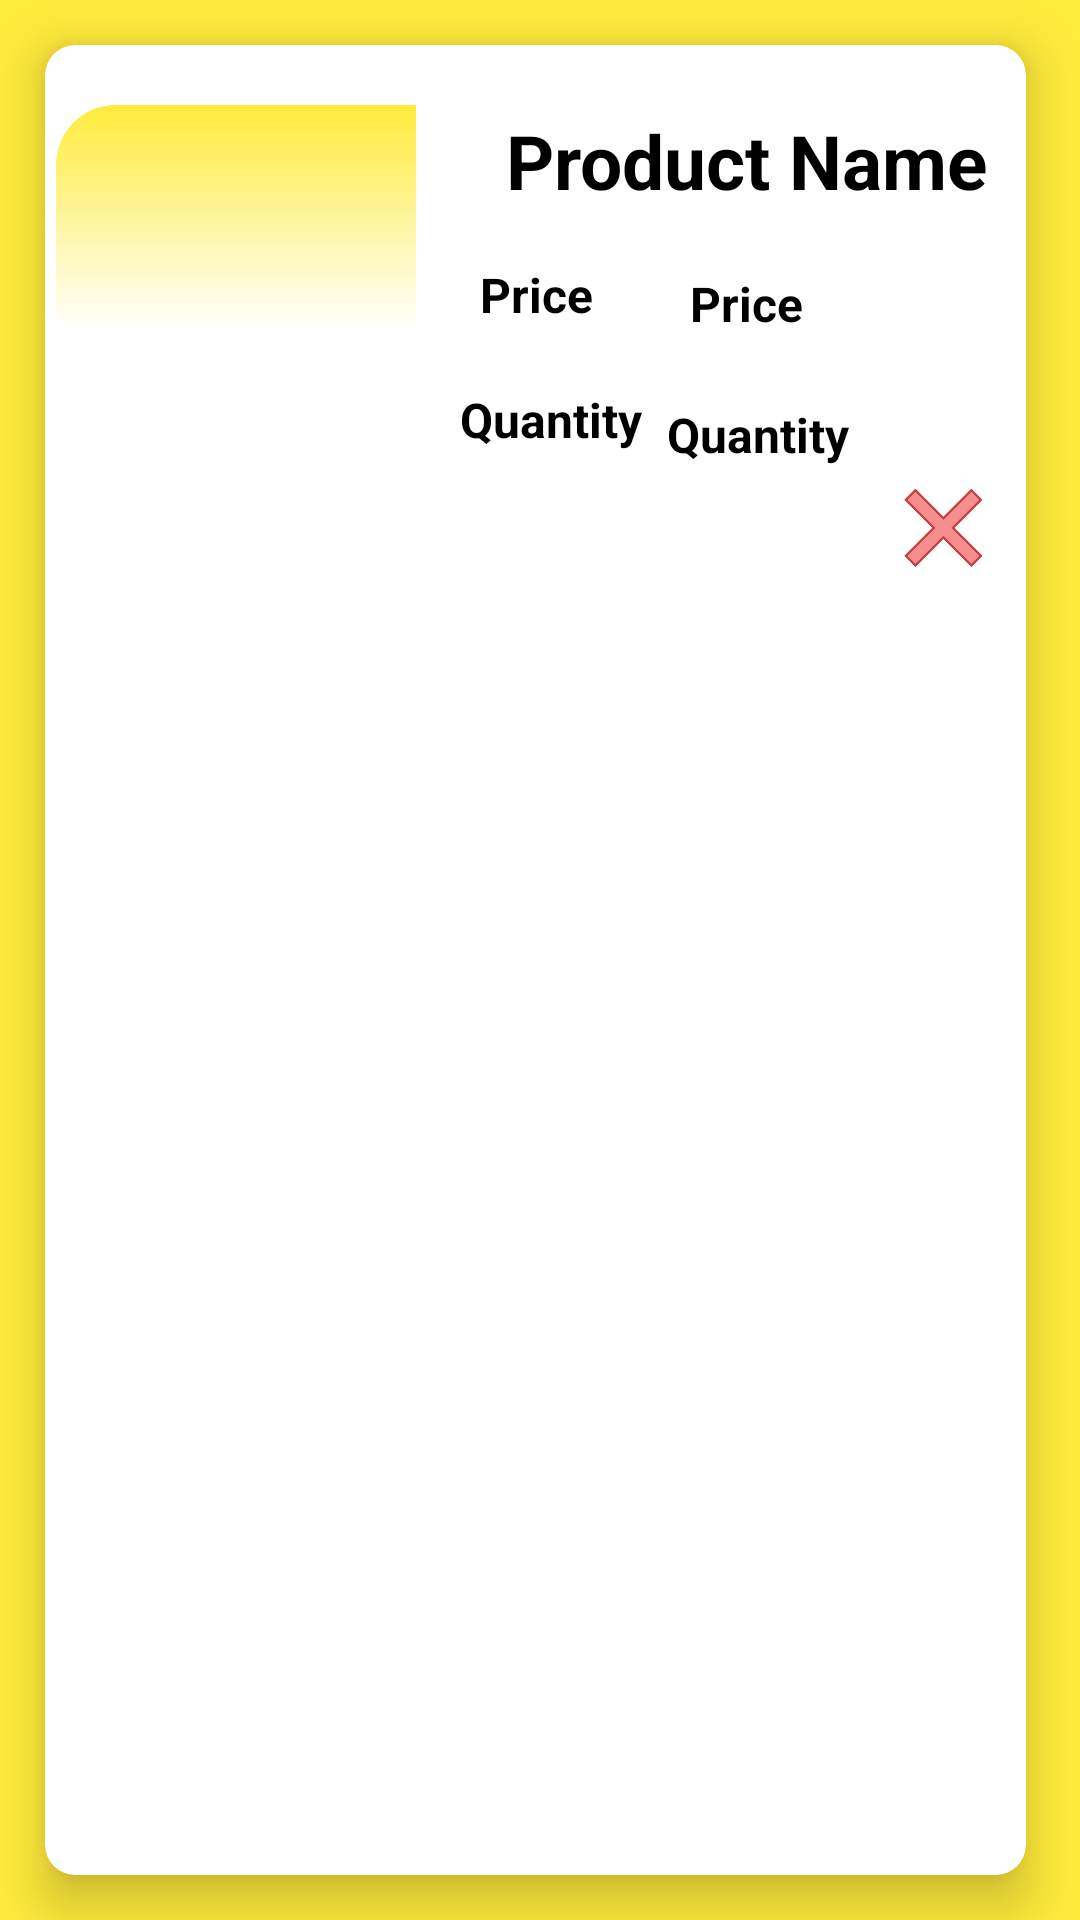

Locate icon controls on the screen. Image size 1080 × 1920, boxes as (x1, y1, x2, y2).
cross: (904, 489, 983, 567)
